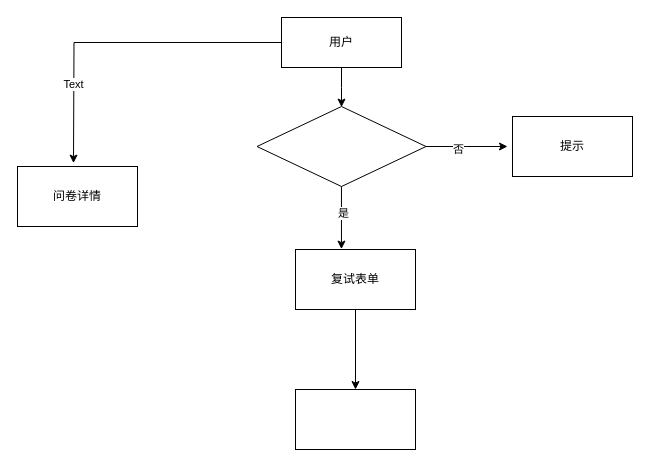
The diagram is 650 pixels wide and 467 high, and some of its shapes have lost their labels. Here are the shapes that lost their labels. From the top down, the box of each, then its label:
(256, 106, 426, 186): 是否购买 后台配置的课程
(294, 388, 416, 450): 保存答案
